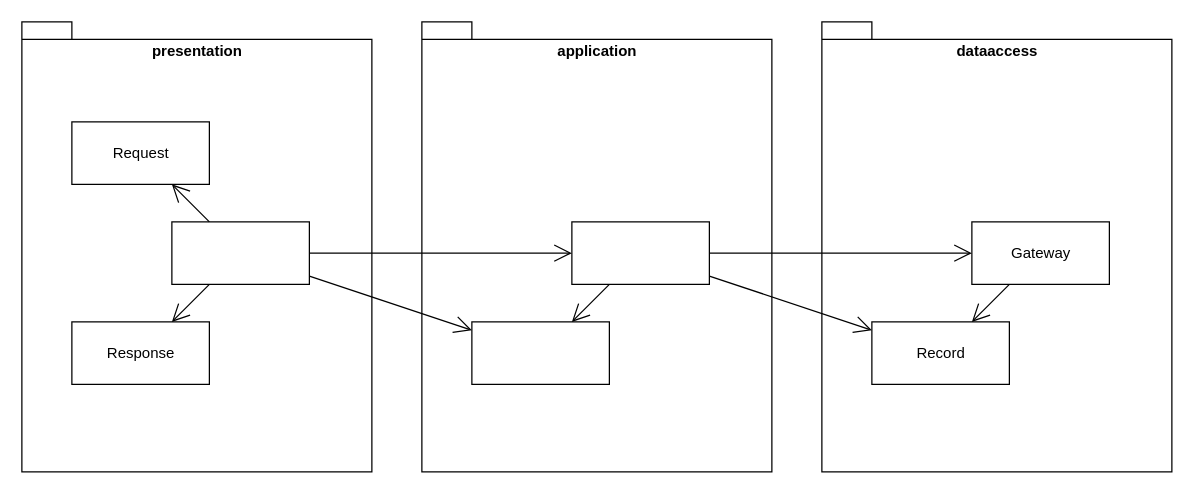
This 1194x494 diagram has some shape labels left out. The centre of each missing label's shape, as x and y in pixels:
"Output(DTO)" goes at [540,352].
"Router(Controller)" goes at [240,252].
"Service" goes at [640,252].
